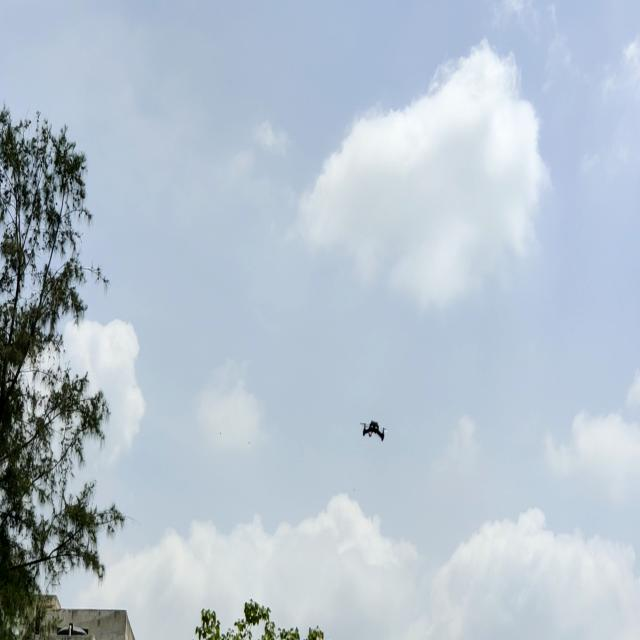drone: (357, 410, 391, 446)
